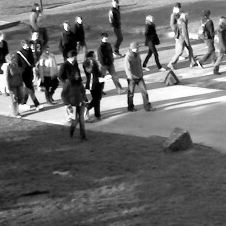person: (124, 41, 156, 112), (60, 70, 87, 142), (17, 39, 43, 111), (97, 33, 126, 95), (166, 12, 196, 69), (81, 50, 105, 121), (2, 53, 23, 118), (142, 15, 166, 71), (37, 45, 59, 105), (197, 9, 217, 68), (108, 1, 126, 58), (170, 1, 186, 60), (58, 21, 78, 62), (30, 3, 49, 45), (213, 16, 226, 74), (58, 50, 81, 82), (1, 30, 9, 97), (73, 15, 86, 51), (27, 30, 44, 52)
